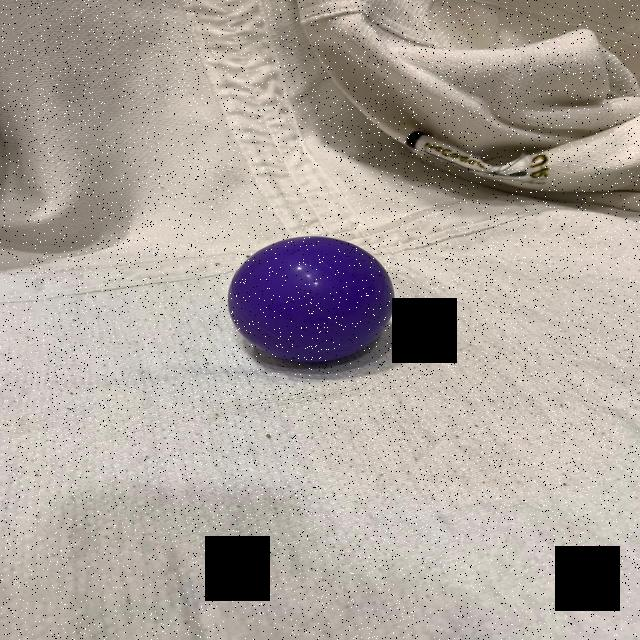ball: (224, 232, 398, 366)
